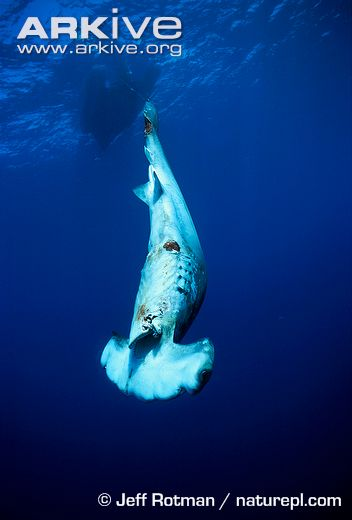shark: (87, 77, 224, 420)
